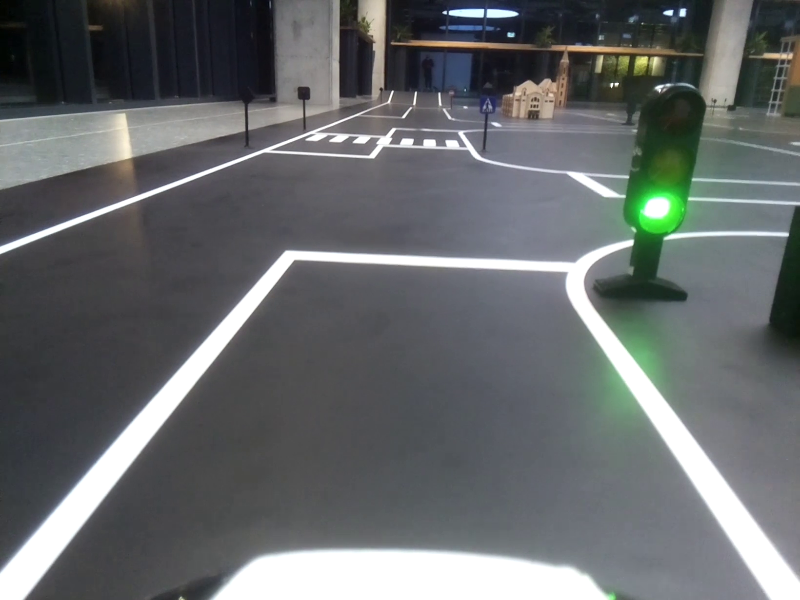traffic_green: (626, 88, 681, 236)
